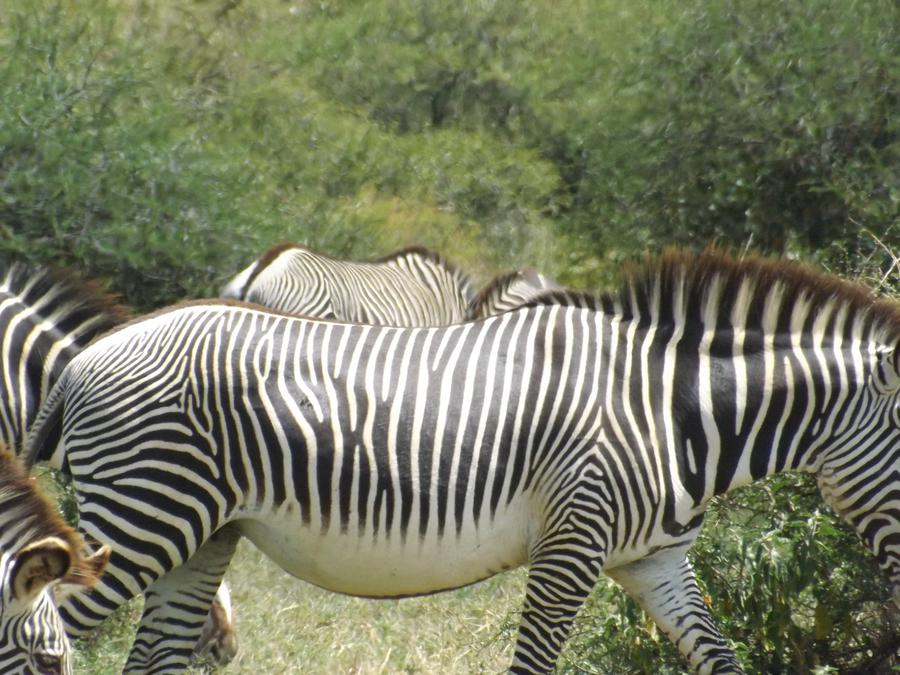zebra_grevys: (54, 279, 663, 566)
